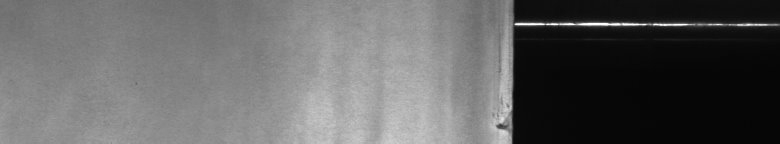hb: (490, 108, 500, 136)
